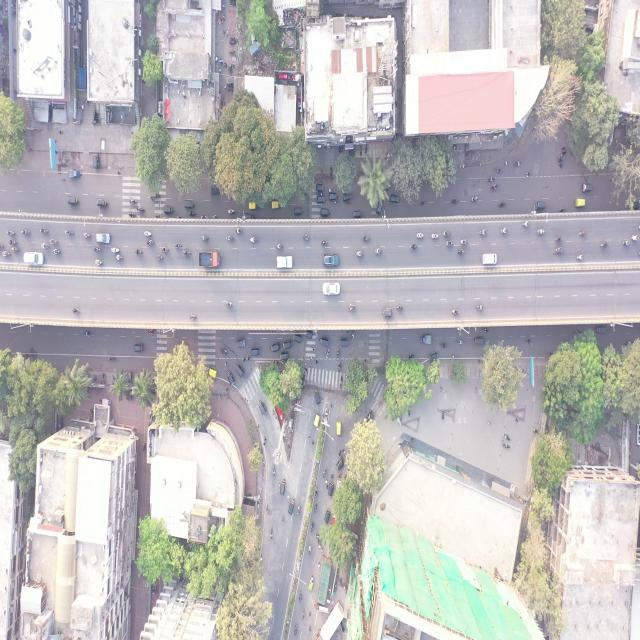3W: (98, 198, 108, 208), (68, 196, 78, 204)
M2W: (96, 233, 110, 244), (39, 226, 49, 235), (40, 240, 50, 249), (52, 246, 62, 255), (22, 227, 33, 235), (6, 228, 16, 236), (1, 249, 11, 257), (49, 237, 59, 245), (93, 258, 103, 266), (83, 231, 92, 239), (94, 244, 102, 253), (9, 238, 19, 245), (115, 254, 124, 261), (249, 236, 258, 243), (64, 229, 74, 235), (111, 247, 121, 253), (202, 235, 210, 242), (226, 235, 234, 242), (276, 243, 284, 250), (362, 234, 369, 242), (128, 212, 137, 218), (235, 227, 242, 234), (135, 248, 143, 254), (182, 250, 190, 256), (374, 248, 382, 254), (356, 250, 364, 256), (130, 198, 136, 205), (156, 254, 163, 260), (303, 233, 309, 240), (349, 303, 355, 310), (136, 207, 144, 212), (144, 231, 152, 236), (146, 240, 154, 245), (175, 243, 181, 249)
